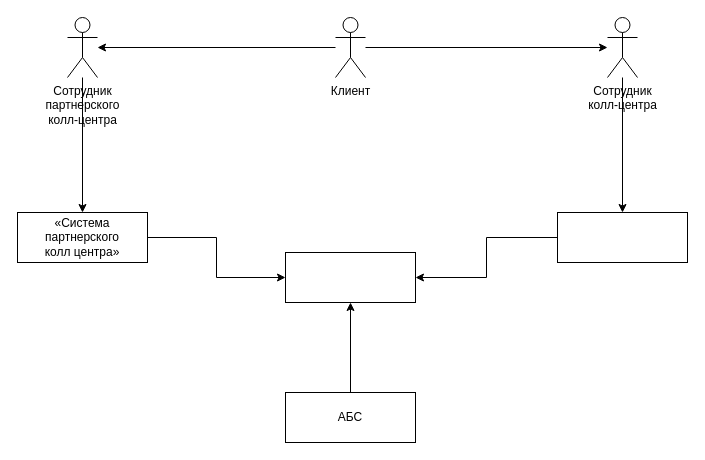
Image size: 705x460. Some labels were removed from this diagram. The centre of each missing label's shape, as x and y in pixels:
"«Система колл ц» React.js+ Java Spring Boot+Rostgres" goes at [622,237].
"Сервис ставок" goes at [350,277].
